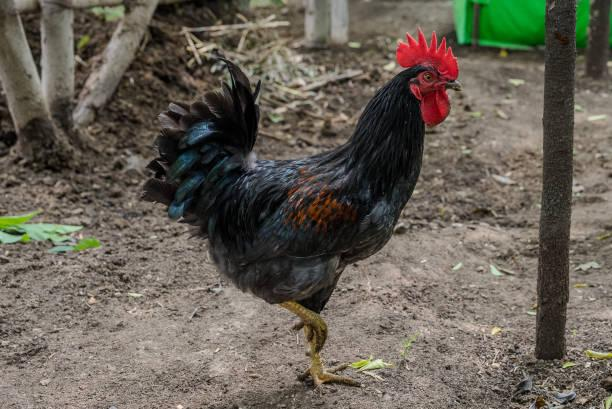AbNormal: (151, 34, 466, 396)
